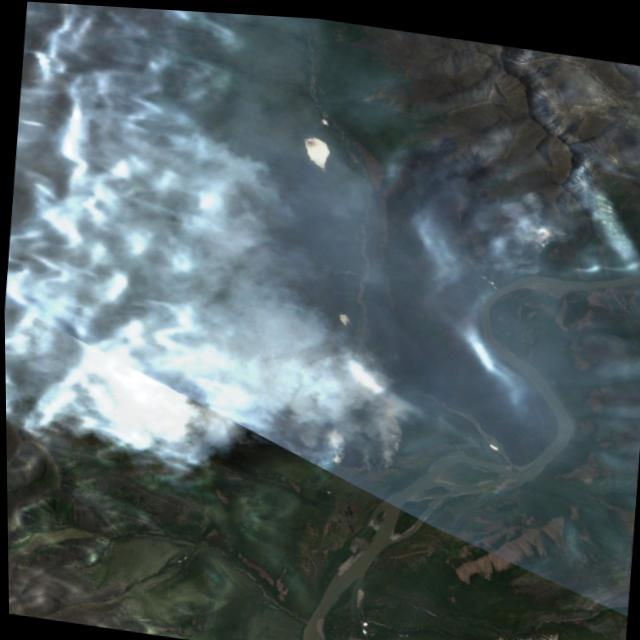fire: (80, 312, 419, 478), (502, 212, 575, 280)
